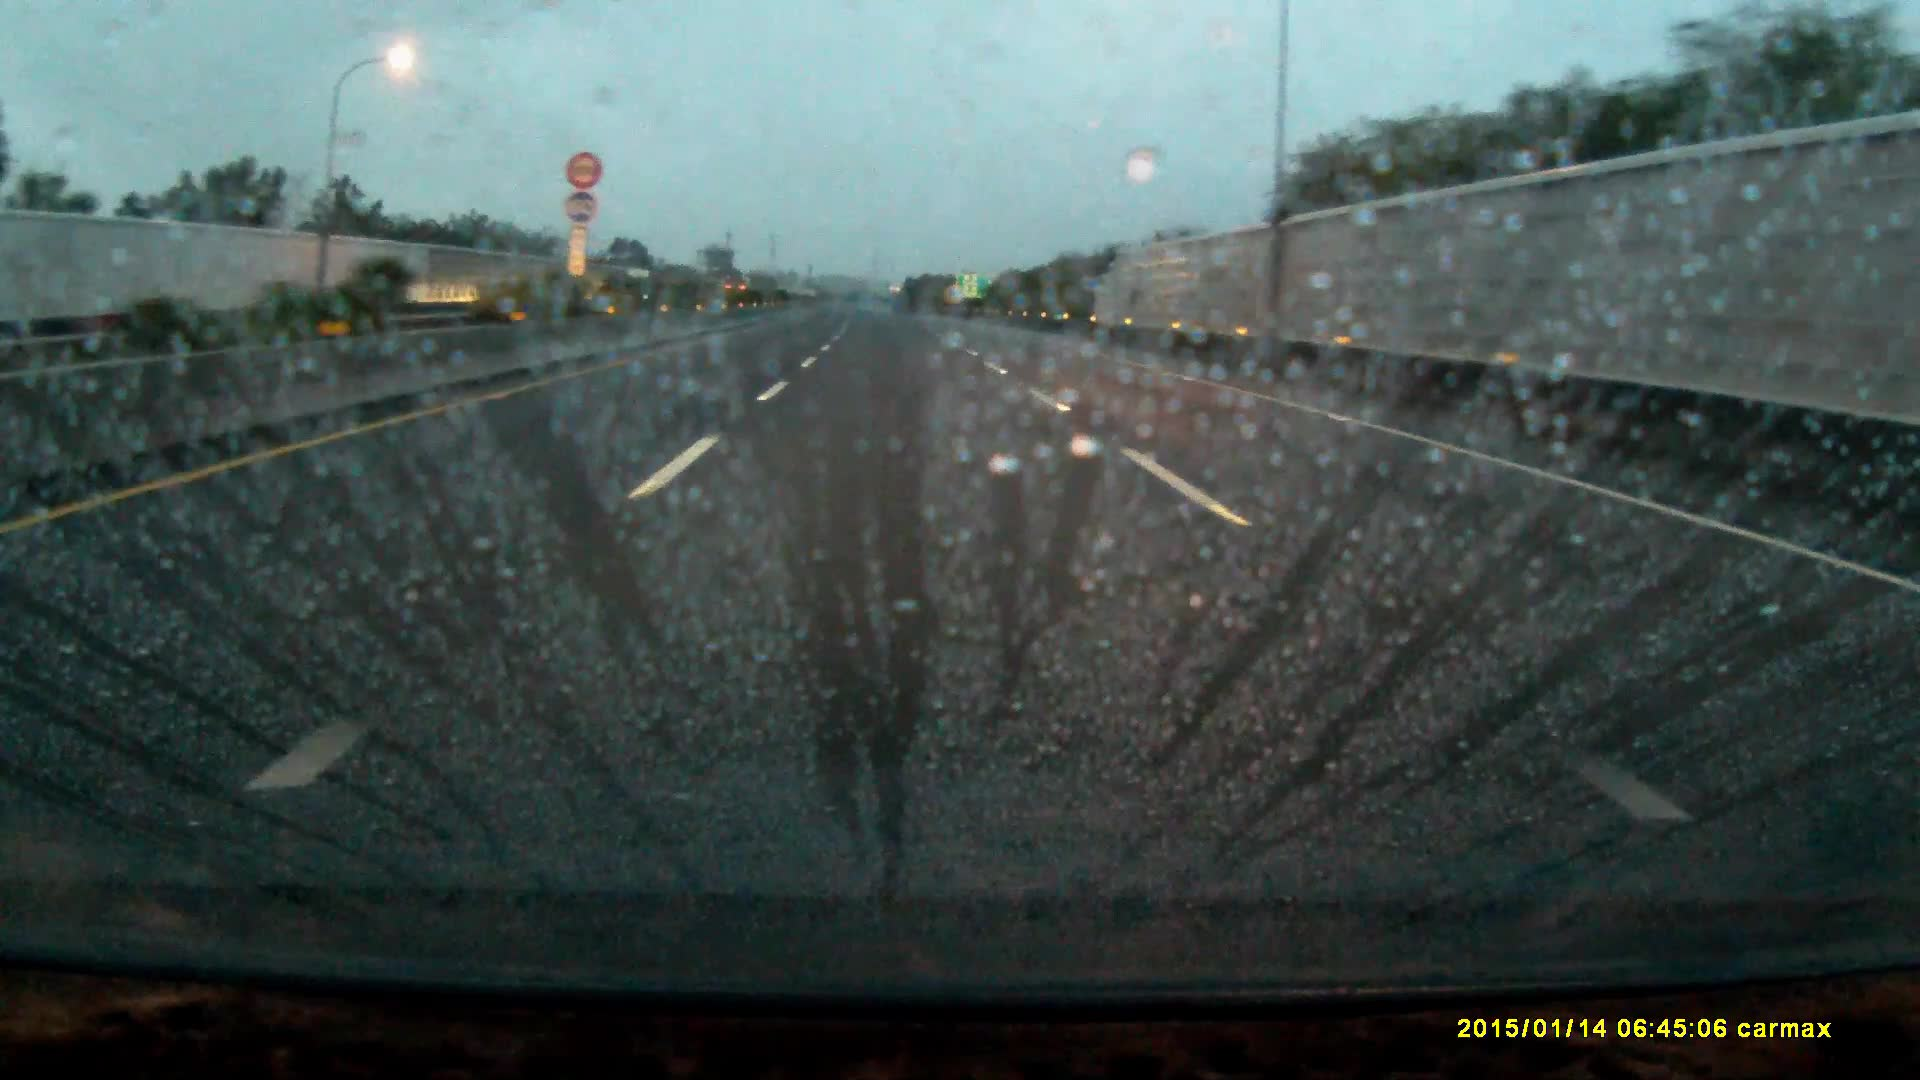vehicle: (625, 270, 655, 305), (725, 284, 756, 310)
